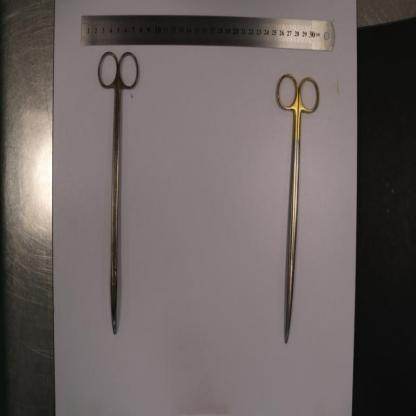7 Metzenbaum Scissors: (275, 71, 321, 345)
9 Metzenbaum Scissors: (97, 49, 142, 337)
